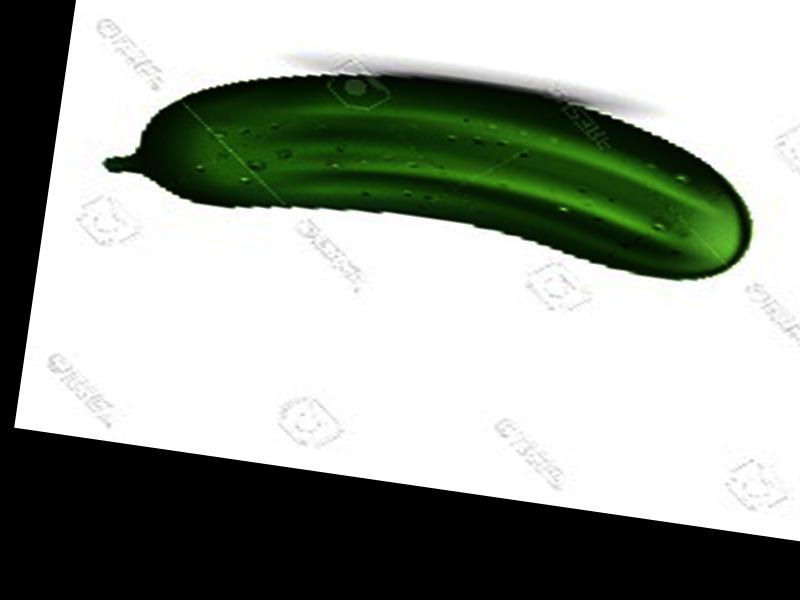Cucumber: (101, 31, 767, 289)
